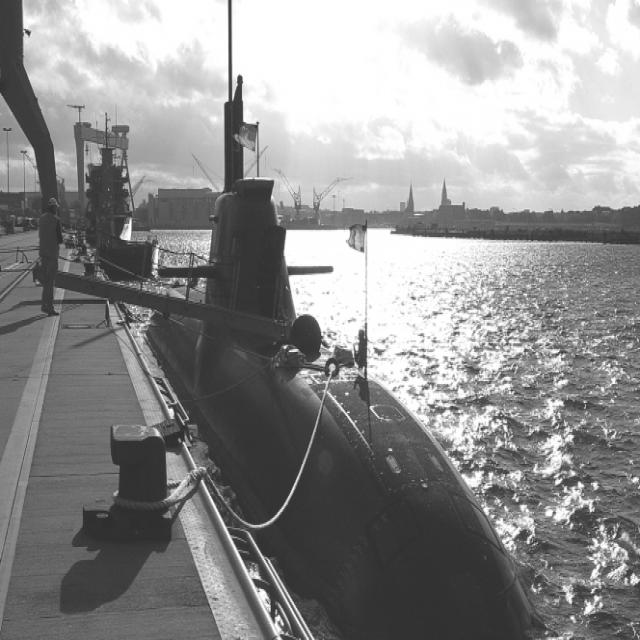submarine: (168, 1, 547, 640)
